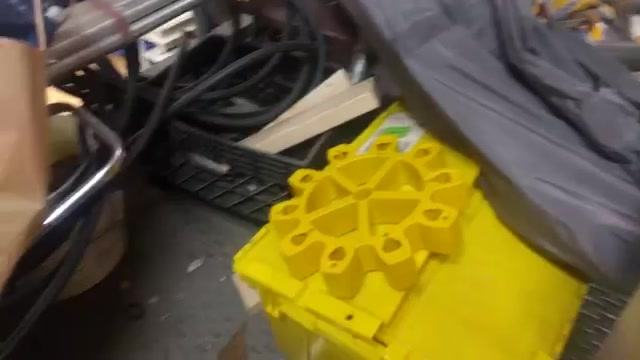gear: (266, 122, 464, 303)
